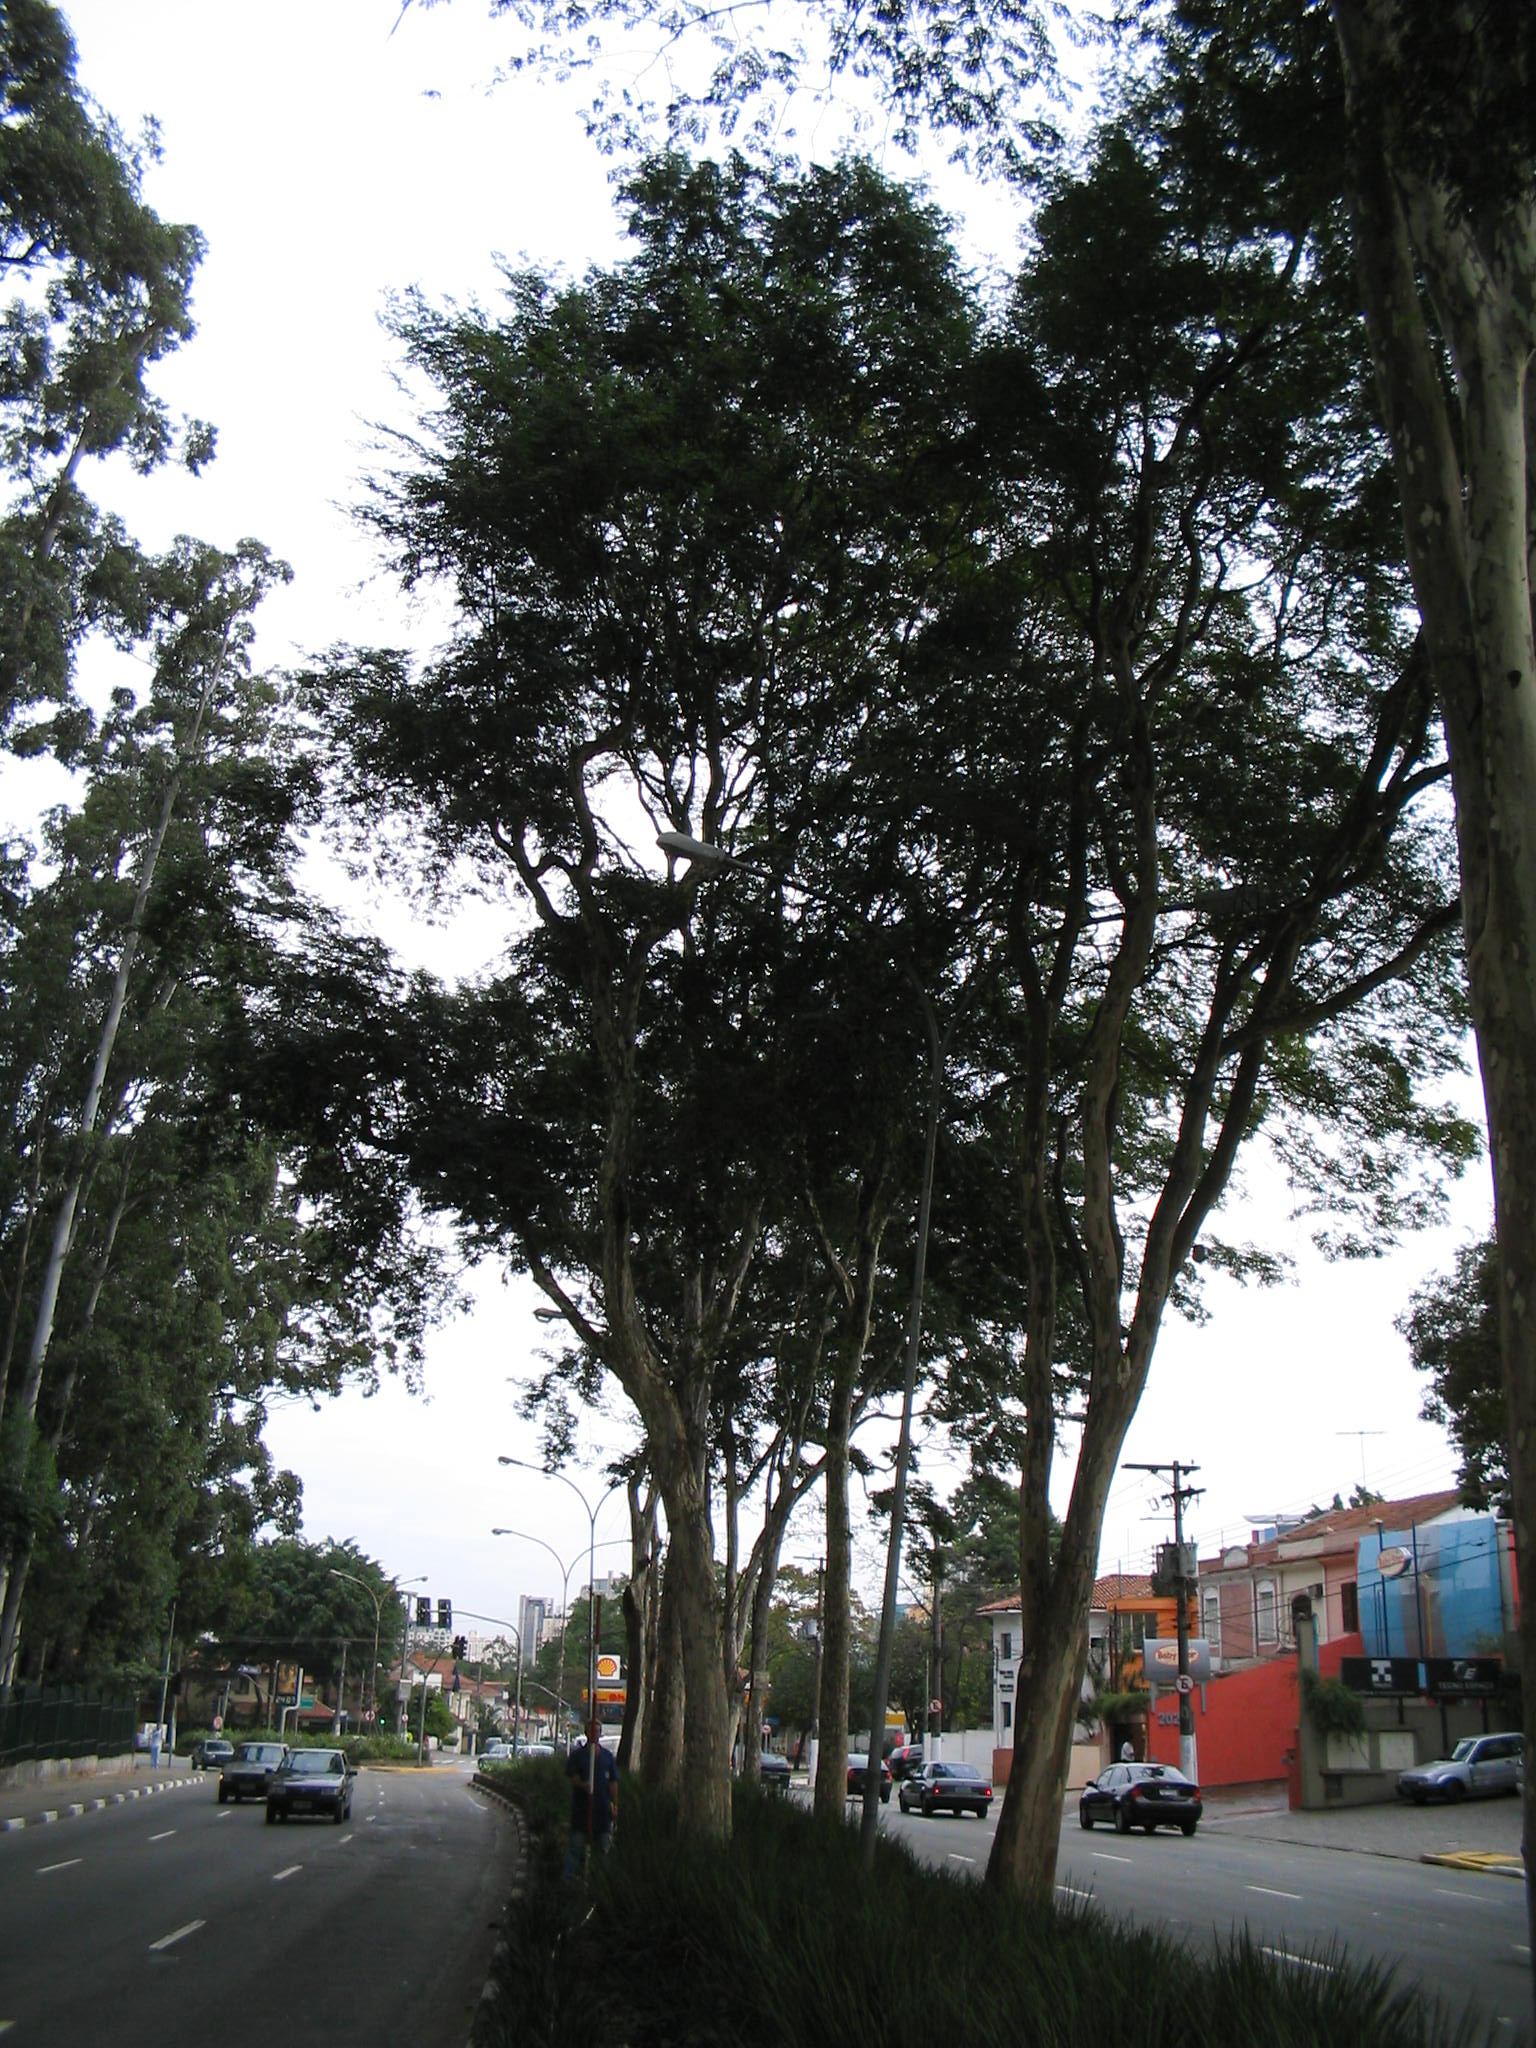crown: (315, 150, 1439, 1137)
stem: (945, 1637, 1112, 1904), (644, 1479, 765, 1842)
stick: (573, 1592, 615, 1890)
tree: (303, 145, 1446, 1842)
